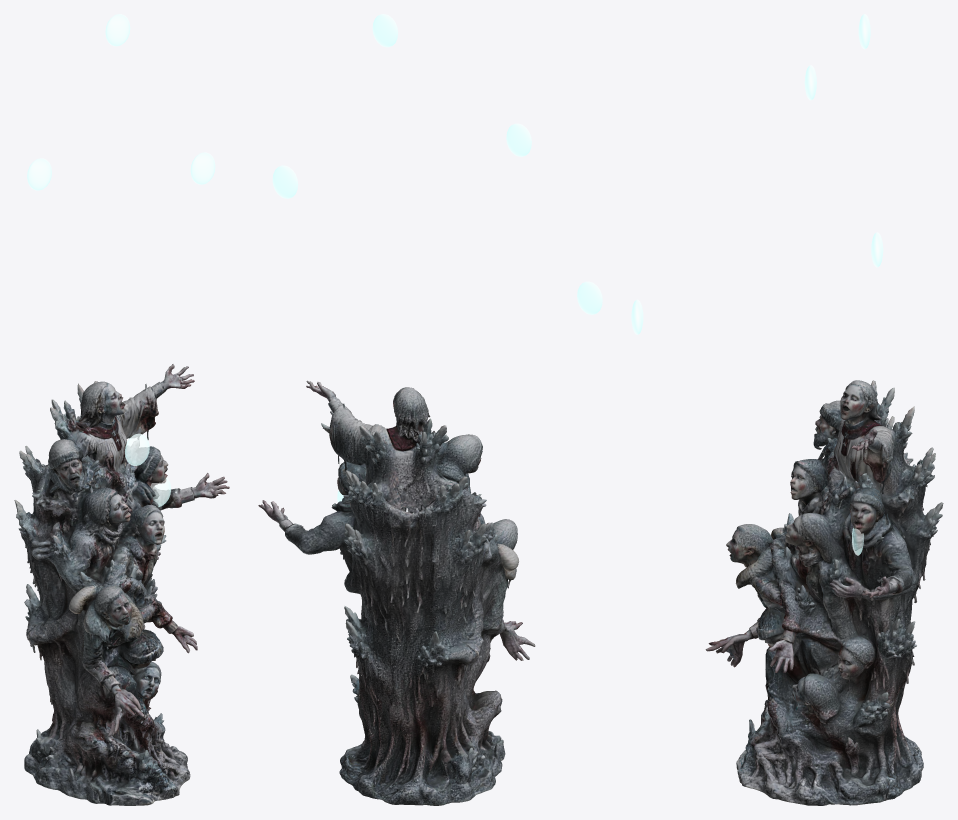
The model's file is choir_hd.glb.
3 renders of one model, left to right at view 1: azimuth 30°, elevation 25°; view 2: azimuth 150°, elevation 25°; view 3: azimuth 270°, elevation 25°, orthographic. The views are drawn at different scales.
Parts seen in each view (by area): view 1: Pillar, ArmR, ArmL, Head1, Head3, Head2, Head0, Head1_glow, Head2_glow, Head0_glow, Head3_glow; view 2: Pillar, ArmR, ArmL, Head2_glow, Head1_glow, Head3_glow, Head0_glow; view 3: Pillar, Head0, Head4, ArmR, Head2, Head3, ArmL, Head1.
Boxes of the visible parts, x1,y1,x2,y2 form: Pillar: (14,381,197,805); ArmR: (155,473,229,510); ArmL: (143,364,194,412); Head1: (53,450,84,490); Head3: (102,586,131,624); Head2: (141,446,168,488); Head0: (100,381,125,421); Head1_glow: (27,158,51,190); Head2_glow: (190,152,215,184); Head0_glow: (105,14,130,46); Head3_glow: (125,433,149,465); Pillar: (310,387,535,805); ArmR: (258,500,318,554); ArmL: (306,380,349,435); Head2_glow: (272,165,298,198); Head1_glow: (506,123,531,156); Head3_glow: (577,281,602,314); Head0_glow: (372,14,398,47); Pillar: (705,380,943,805); Head0: (840,381,875,423); Head4: (834,632,870,675); ArmR: (862,555,915,597); Head2: (848,489,882,531); Head3: (726,524,755,565); ArmL: (851,429,892,462); Head1: (813,406,838,446).
Bounding box in the file's own units: 3.22 × 9.77 × 3.59.
2 materials, 1 textured.
